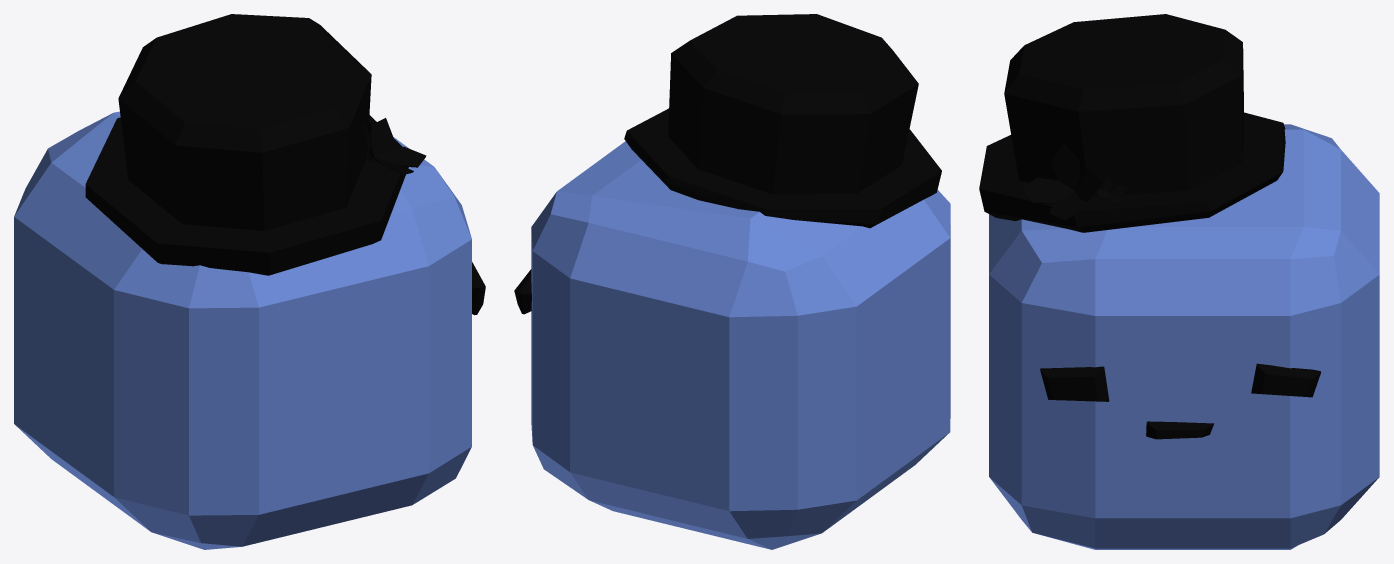
Rendered from Cubey boi.fbx.
3 renders of one model, left to right at view 1: azimuth 30°, elevation 25°; view 2: azimuth 150°, elevation 25°; view 3: azimuth 270°, elevation 25°, orthographic. The views are drawn at different scales.
Parts seen in each view (by area): view 1: Cube, Plane; view 2: Cube, Plane, Plane.002; view 3: Cube, Plane, Plane.001, Plane.002, Plane.003.
Boxes of the visible parts, x1,y1,x2,y2 form: Cube: (14, 111, 471, 549); Plane: (85, 14, 426, 275); Cube: (531, 141, 950, 549); Plane: (624, 14, 941, 228); Plane.002: (514, 269, 531, 314); Cube: (989, 124, 1379, 549); Plane: (979, 14, 1285, 232); Plane.001: (1040, 366, 1109, 401); Plane.002: (1251, 363, 1320, 397); Plane.003: (1146, 421, 1214, 439).
Size of the model in its own units: 256 by 314 by 251.
5 materials, 4 textured.
